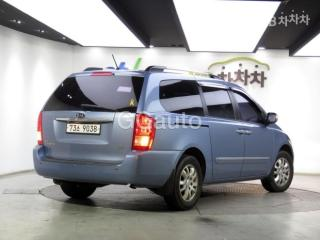0: (86, 125, 90, 132)
3: (73, 124, 77, 131), (90, 125, 94, 132)
7: (69, 124, 73, 132)
8: (93, 125, 98, 133)
9: (82, 125, 86, 132)
plate: (65, 119, 103, 137)
소: (77, 125, 80, 132)
